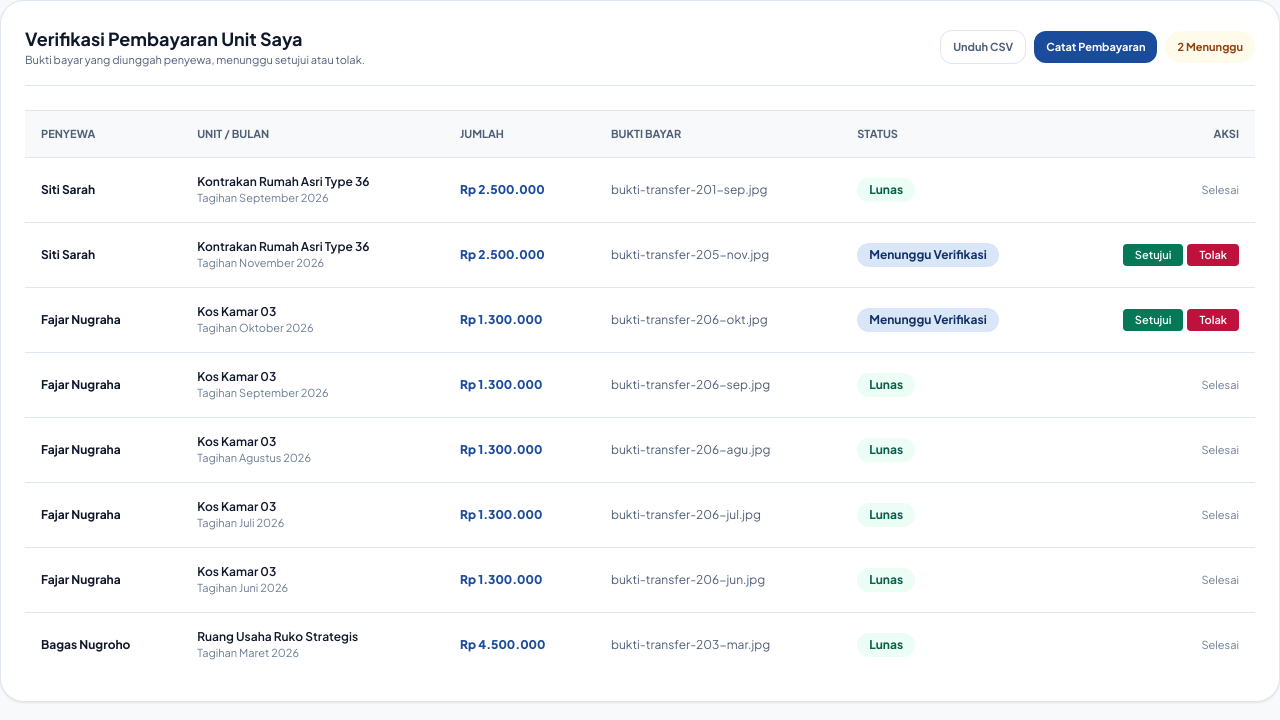
Test case: OwnerPaymentsPage › membuka form catat pembayaran
Click the button "Catat Pembayaran": (1096, 47) [1034, 30, 1158, 63]
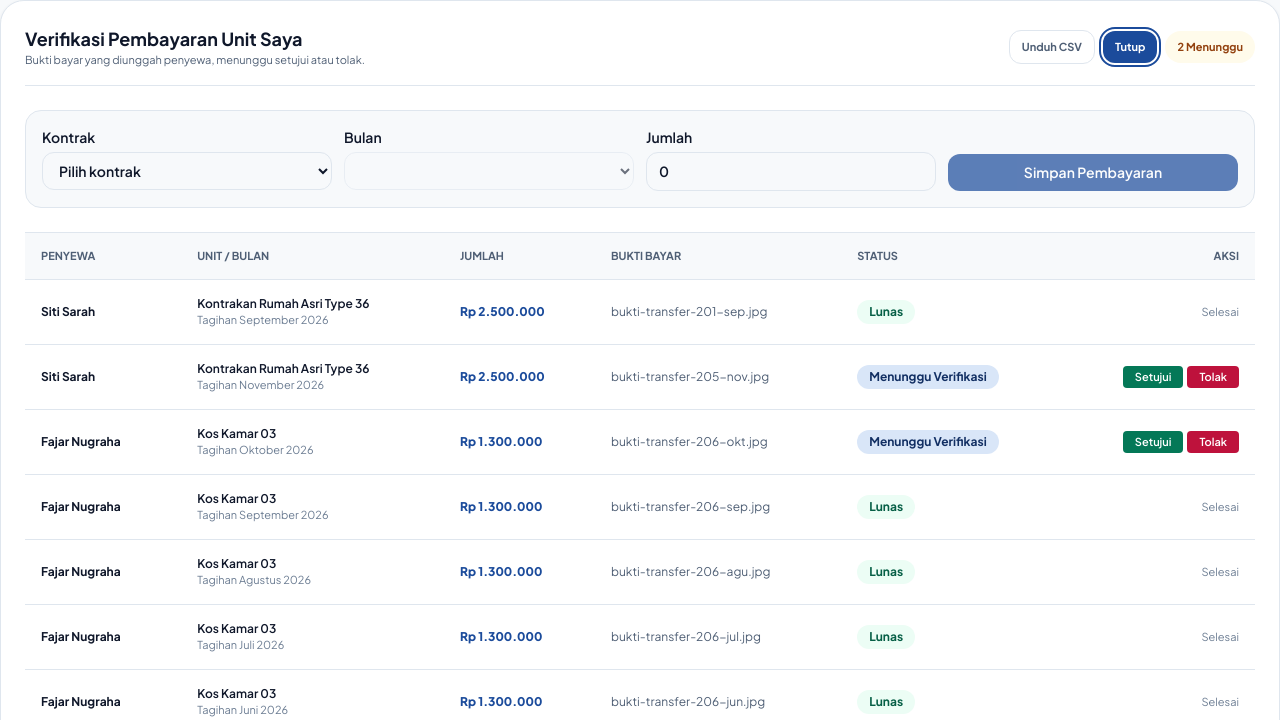
Expected: the dropdown labelled "Kontrak" is shown, [42, 152, 332, 190]
Expected: the dropdown labelled "Bulan" is shown, [344, 152, 634, 190]
Expected: the number field labelled "Jumlah" is shown, [646, 152, 936, 190]
